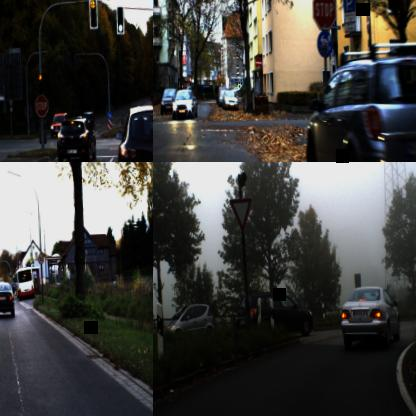NO ENTRY: (256, 57, 262, 69)
STOP: (312, 0, 336, 30), (35, 94, 48, 116)
give way: (229, 197, 253, 233)
go left or straight: (316, 30, 333, 58)
keep right: (107, 111, 112, 120)
speed limit 50: (38, 252, 44, 264)
